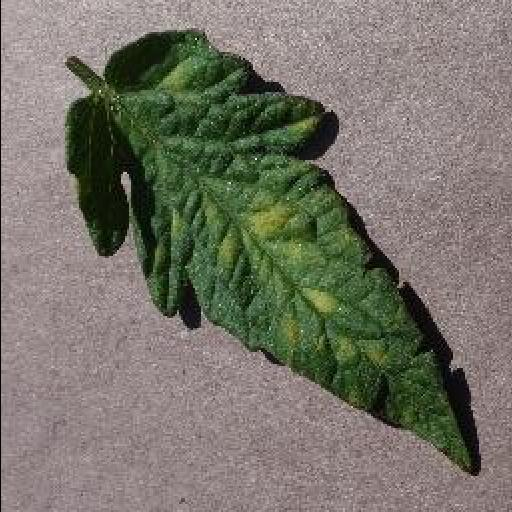disease_tomato: (62, 28, 476, 478)
